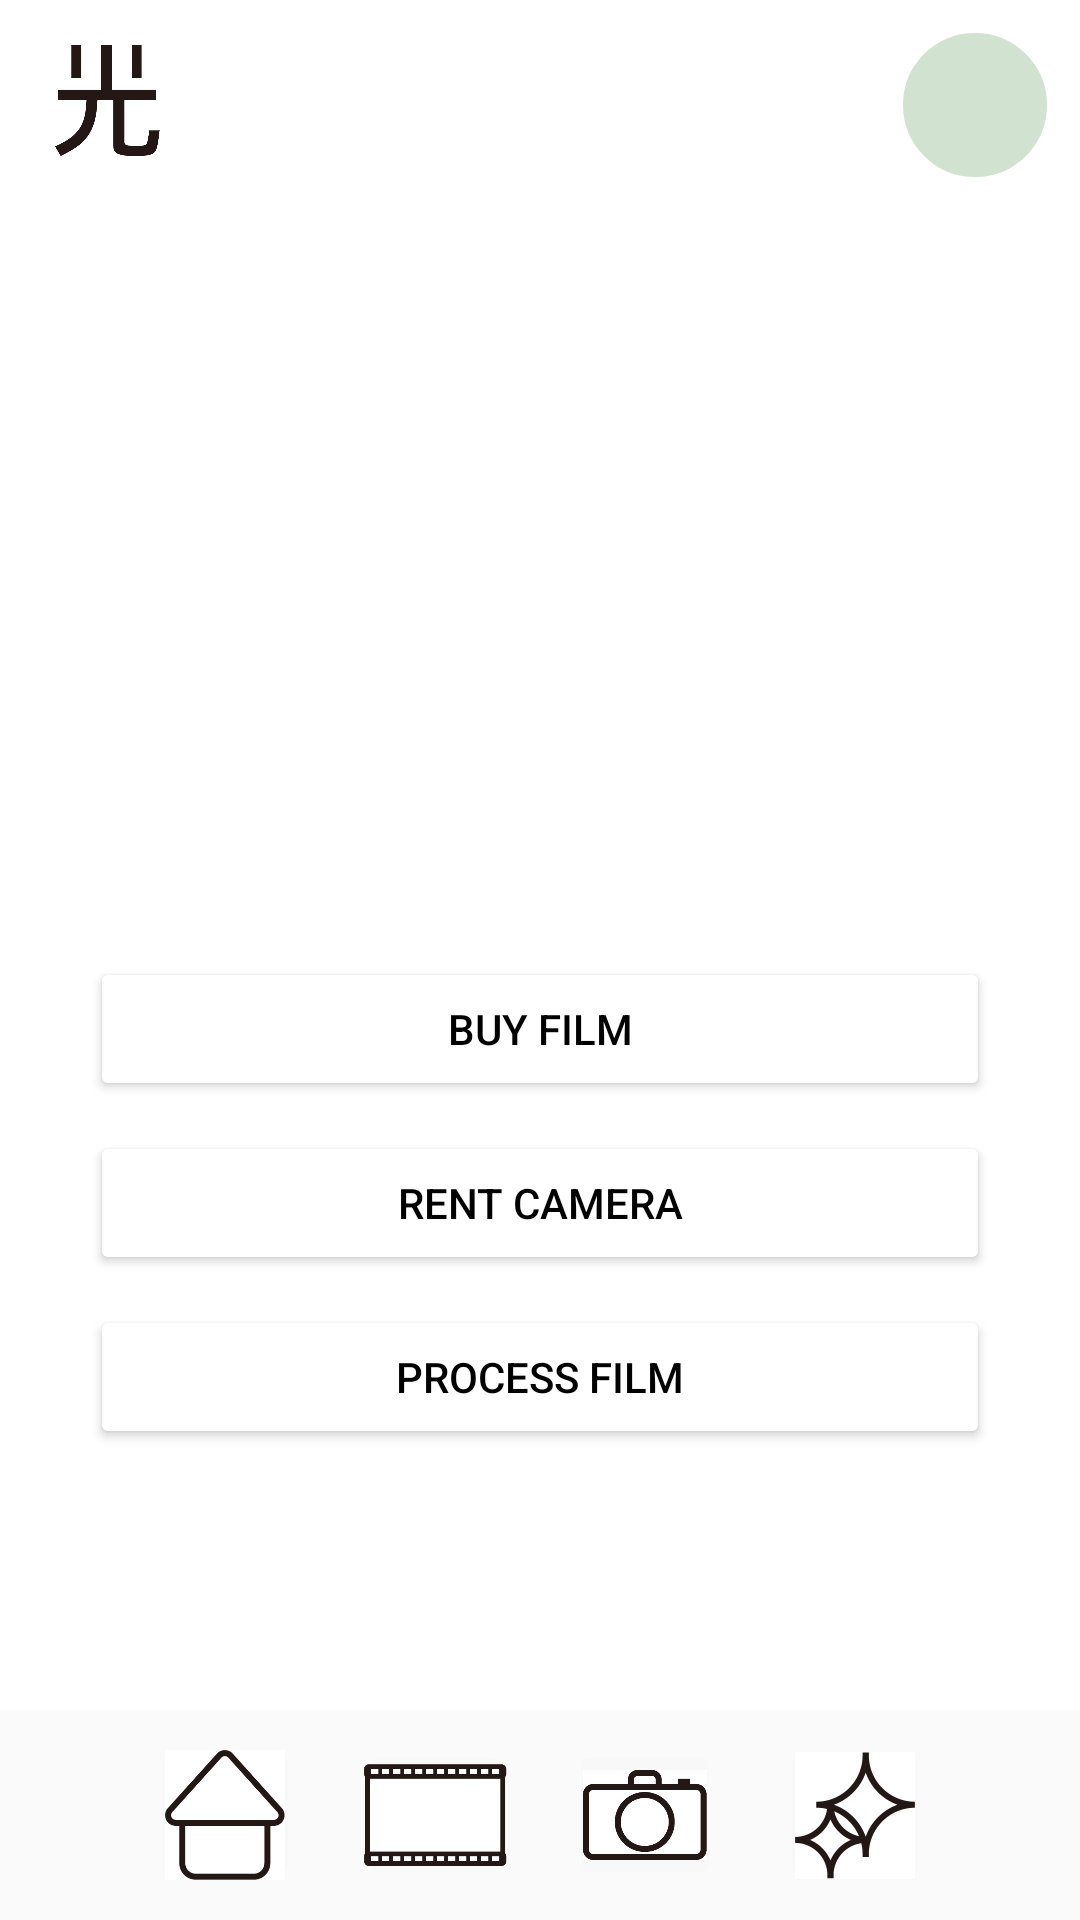

Icons on this 1080px×1920px Android screen, each with its box as (x1, y1, x2, y2):
camera: (583, 1770, 707, 1860)
film: (364, 1764, 507, 1866)
home: (165, 1750, 285, 1880)
